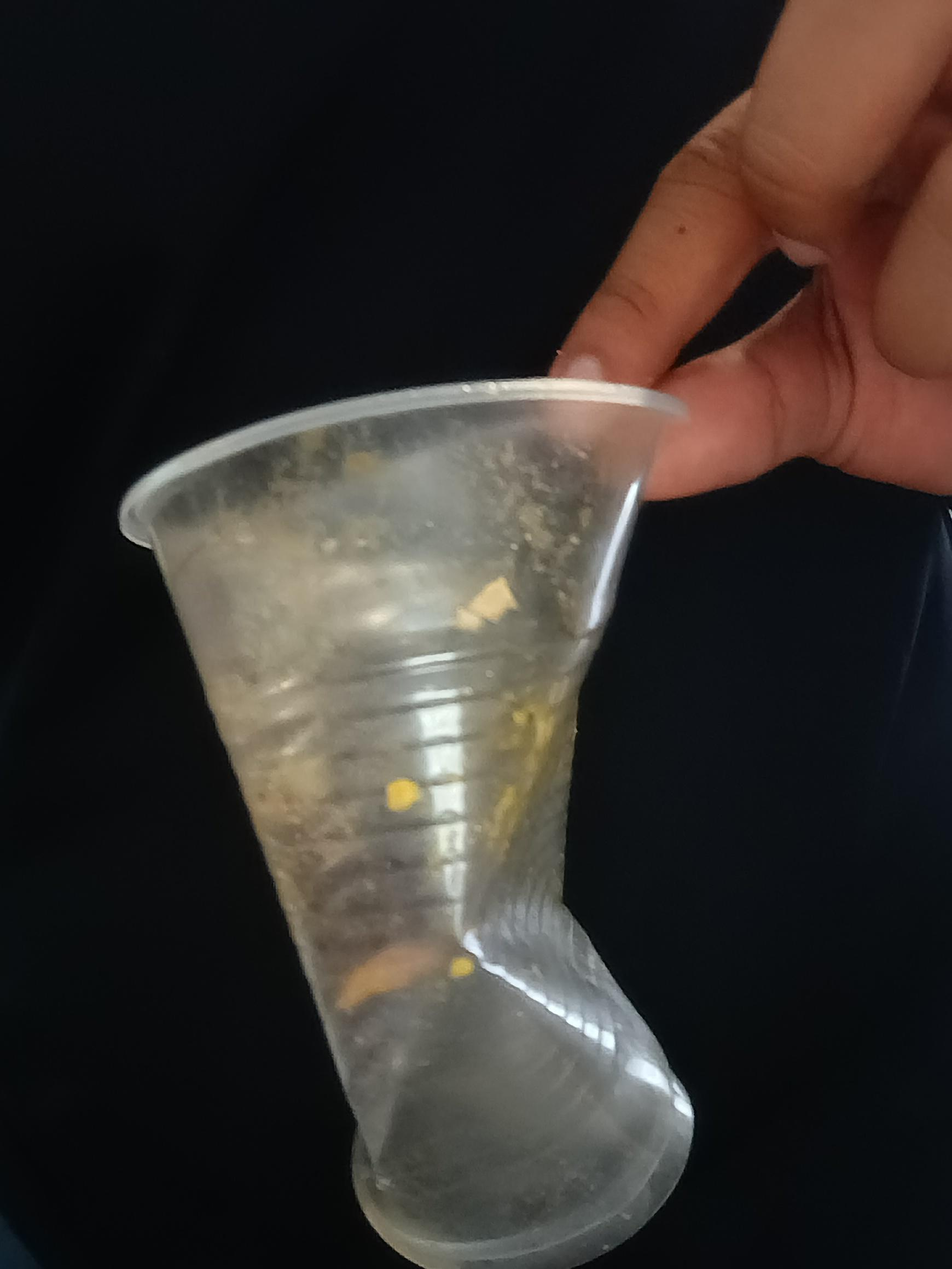Plastico: (115, 375, 698, 1269)
